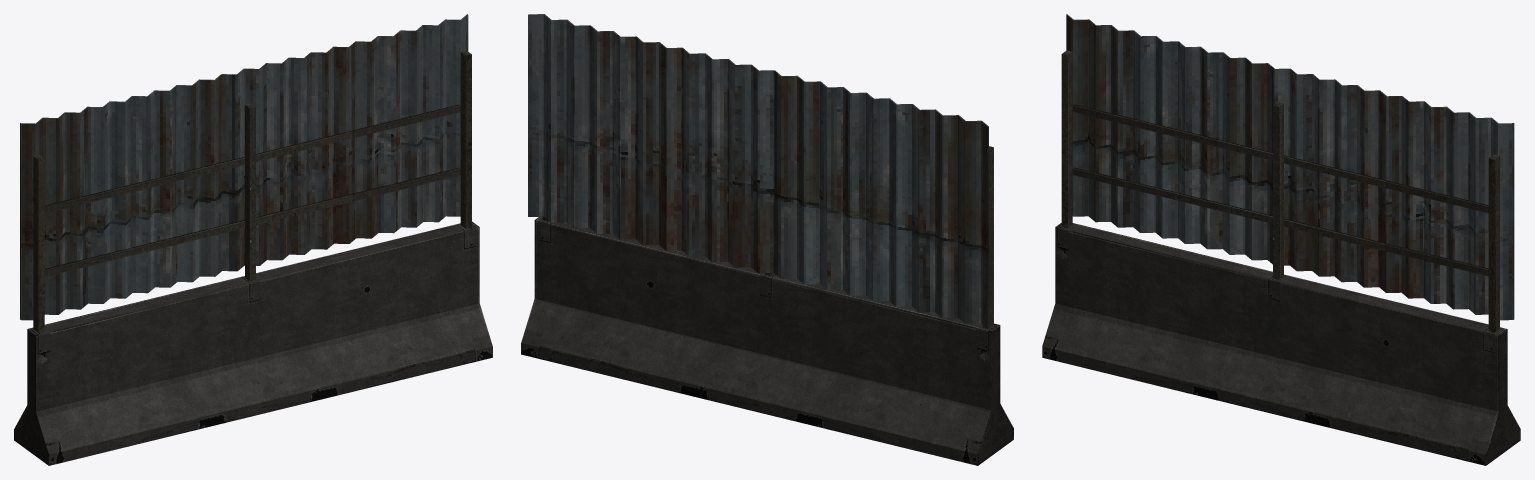
The model's file is barricade_b_4.glb.
The picture shows the model from 3 angles, left to right: view 1: azimuth 30°, elevation 25°; view 2: azimuth 150°, elevation 25°; view 3: azimuth 330°, elevation 25°; orthographic projection. The views are drawn at different scales.
Parts seen in each view (by area): view 1: barricade_b_4; view 2: barricade_b_4; view 3: barricade_b_4.
Boxes of the visible parts, x1,y1,x2,y2 form: barricade_b_4: (14,14,492,465); barricade_b_4: (521,14,1013,465); barricade_b_4: (1042,14,1520,465).
Bounding box in the file's own units: 2.96 × 2.05 × 0.4.
3 materials, 3 textured.
